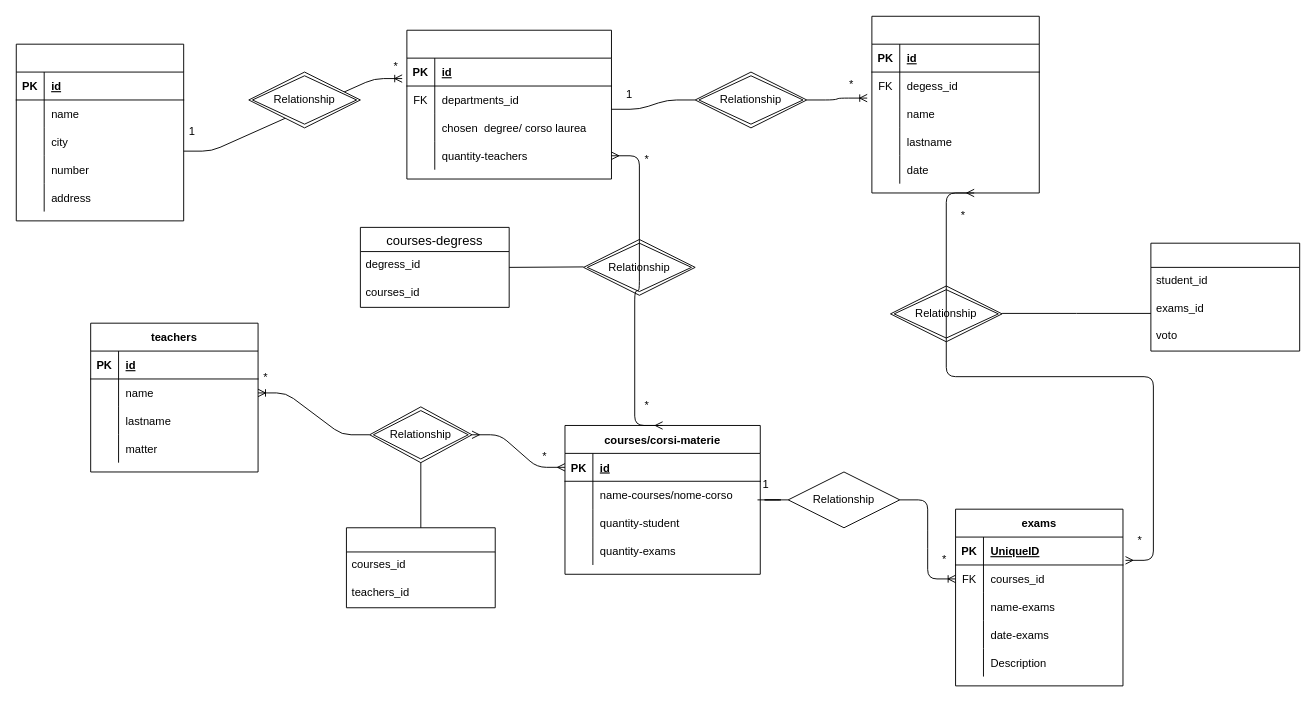
This 1316x702 diagram has some shape labels left out. The shapes that lost their labels are listed below. From the top down, each one's box as (x1, y1, x2, y2) in pixels, then its label:
(406, 29, 611, 179): degress/corsi-laure
(871, 15, 1039, 193): student
(15, 43, 184, 221): departments
(1150, 242, 1300, 351): exams-student
(345, 527, 495, 608): courses-teachers
